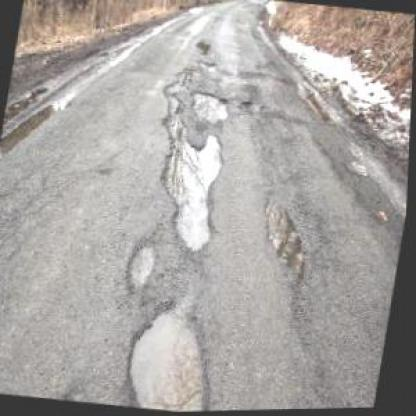pothole: (122, 298, 229, 412), (151, 129, 230, 254), (252, 192, 322, 288), (159, 61, 197, 135), (126, 237, 162, 295), (188, 89, 235, 126), (197, 58, 220, 75)
